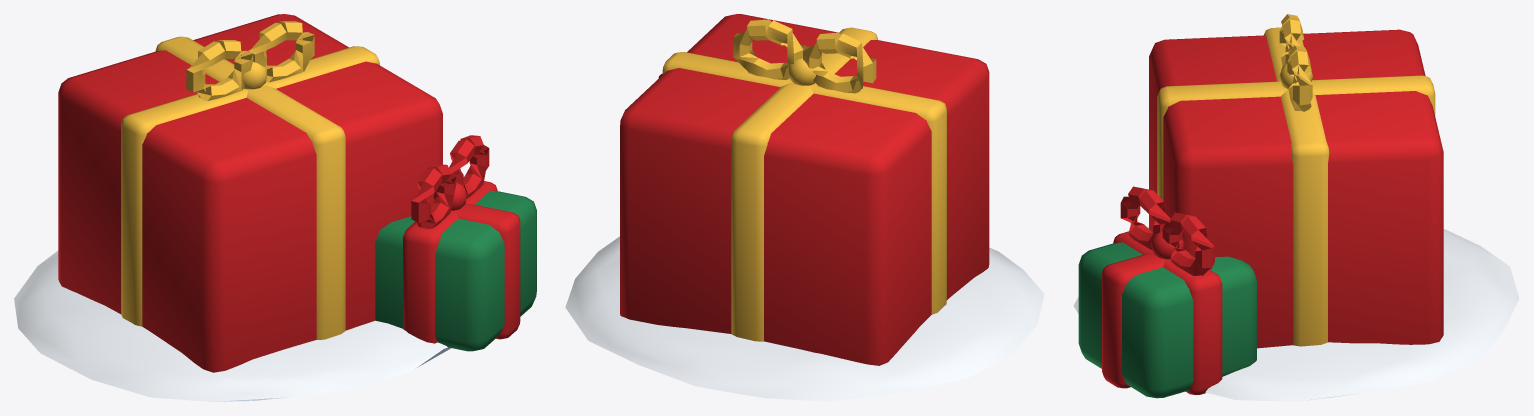
Rendered from GiftBox.fbx.
The picture shows the model from 3 angles, left to right: view 1: azimuth 30°, elevation 25°; view 2: azimuth 150°, elevation 25°; view 3: azimuth 270°, elevation 25°; orthographic projection. The views are drawn at different scales.
Visible parts, largest first — view 1: GiftBox; view 2: GiftBox; view 3: GiftBox.
Boxes of the visible parts, x1=… form: GiftBox: x1=14, y1=14, x2=536, y2=401; GiftBox: x1=565, y1=14, x2=1044, y2=401; GiftBox: x1=1073, y1=14, x2=1519, y2=401.
Size of the model in its own units: 1.41 by 0.8881 by 1.32.
1 material, 1 textured.
